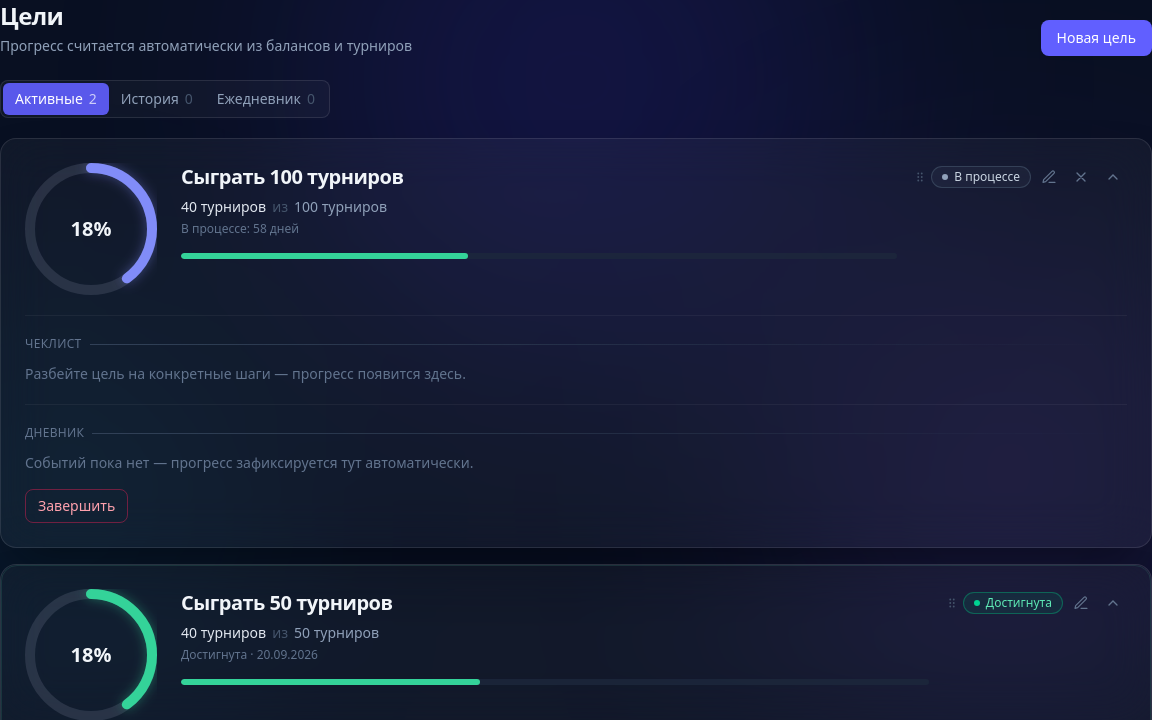
Scenario: GoalsPage history › keeps an unacknowledged finished goal in the active tab
Expected: the heading "Сыграть 50 турниров" is shown, [181, 589, 392, 616]
Expected: the heading "Сыграть 100 турниров" is shown, [181, 163, 404, 190]
Click the tab "История0". click: (157, 99)
box: [109, 83, 205, 115]
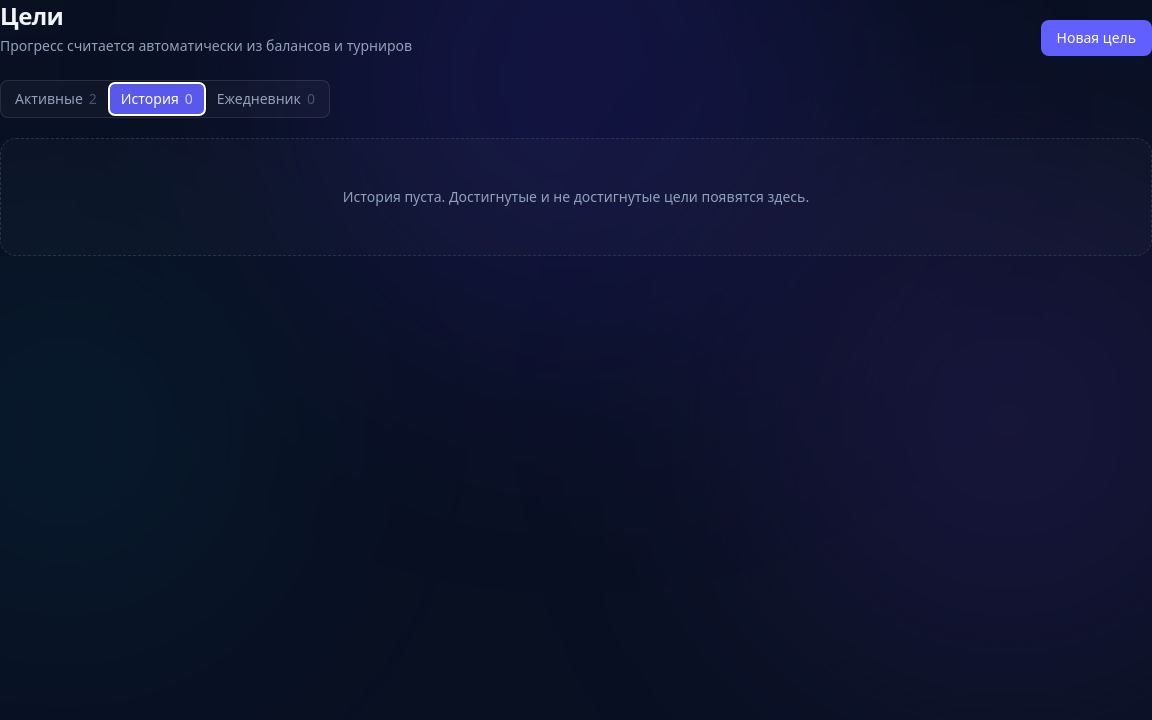
Now the button "Сыграть 50 турниров" is gone
